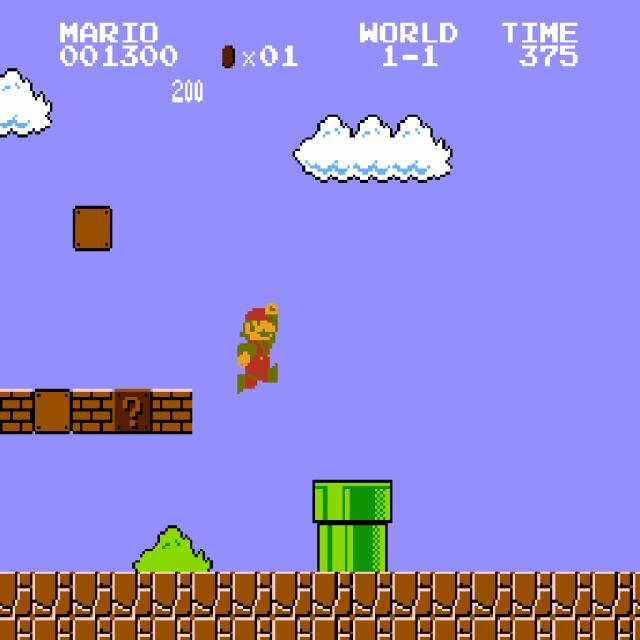big_mario: (235, 300, 278, 394)
brick_block: (72, 389, 113, 434), (152, 389, 193, 434), (0, 388, 32, 434)
empty_block: (32, 389, 73, 434), (72, 206, 113, 251)
mystery_block: (112, 389, 153, 434)
pipe: (312, 526, 353, 571), (352, 526, 393, 571)
pipe_head: (312, 480, 353, 526), (352, 480, 393, 526)
undestructible_block: (32, 572, 73, 617), (72, 572, 113, 617), (112, 572, 153, 617), (152, 572, 193, 617), (192, 572, 233, 617), (232, 572, 273, 617), (272, 572, 313, 617), (312, 572, 353, 617), (352, 572, 393, 617), (392, 572, 433, 617), (432, 572, 473, 617), (472, 572, 513, 617), (512, 572, 553, 617), (552, 572, 593, 617), (592, 572, 633, 617), (0, 571, 32, 617), (32, 617, 73, 640), (72, 617, 113, 640), (112, 617, 153, 640), (152, 617, 193, 640), (192, 617, 233, 640), (232, 617, 273, 640), (272, 617, 313, 640), (312, 617, 353, 640), (352, 617, 393, 640), (392, 617, 433, 640), (432, 617, 473, 640), (472, 617, 513, 640), (512, 617, 553, 640), (552, 617, 593, 640), (592, 617, 633, 640), (0, 617, 32, 639), (633, 572, 640, 617), (633, 617, 640, 640)
